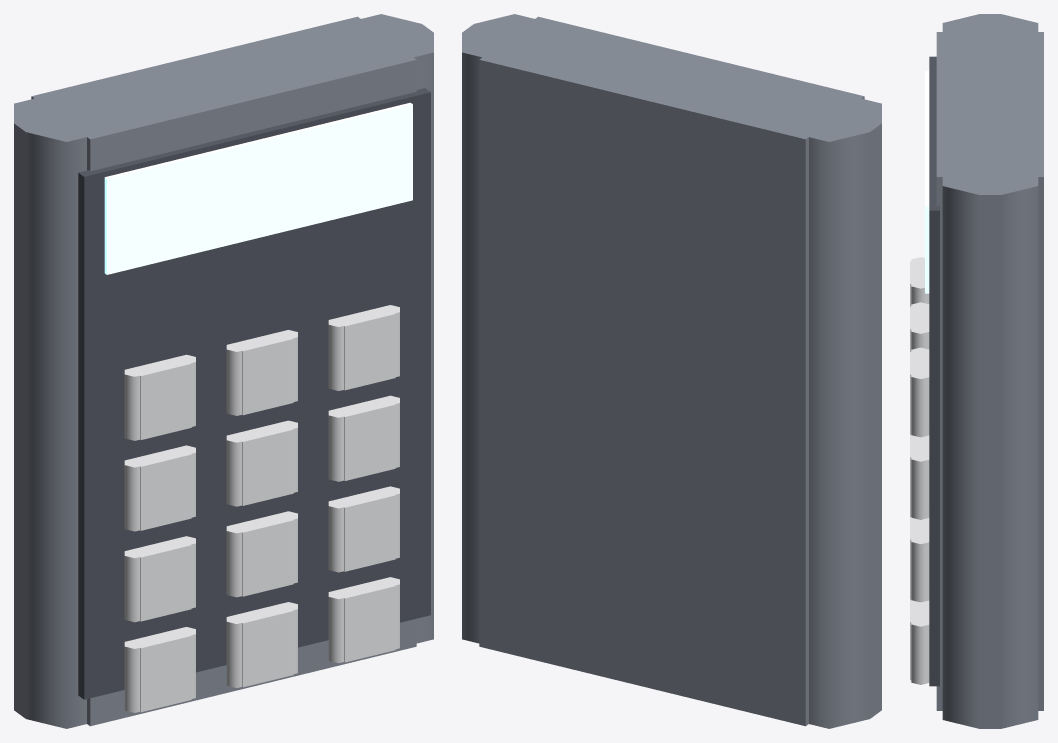
Rendered from prop_keypad.glb.
3 views of the same model, side by side, from view 1: azimuth 30°, elevation 25°; view 2: azimuth 150°, elevation 25°; view 3: azimuth 270°, elevation 25° (orthographic). The views are drawn at different scales.
Parts seen in each view (by area): view 1: prop_keypad, key_#, key_1, key_6, key_8, key_4, key_9, key_7, key_3, key_5, key_2, key_* (+1 smaller); view 2: prop_keypad; view 3: prop_keypad, key_2, key_5, key_8, key_#, key_1, key_0.
Boxes of the visible parts, x1,y1,x2,y2 form: prop_keypad: (14,14,433,728); key_#: (328,577,399,663); key_1: (226,330,297,415); key_6: (124,536,195,622); key_8: (328,486,399,572); key_4: (226,420,297,506); key_9: (124,627,195,712); key_7: (226,511,297,597); key_3: (124,445,195,531); key_5: (328,395,399,481); key_2: (328,305,399,390); key_*: (226,602,297,687); prop_keypad: (462,14,881,728); prop_keypad: (925,14,1043,728); key_2: (910,347,929,437); key_5: (910,434,929,519); key_8: (910,517,929,602); key_#: (910,599,929,684); key_1: (910,302,929,351); key_0: (910,257,929,306).
Bounding box in the file's own units: 0.4 × 0.55 × 0.125.
